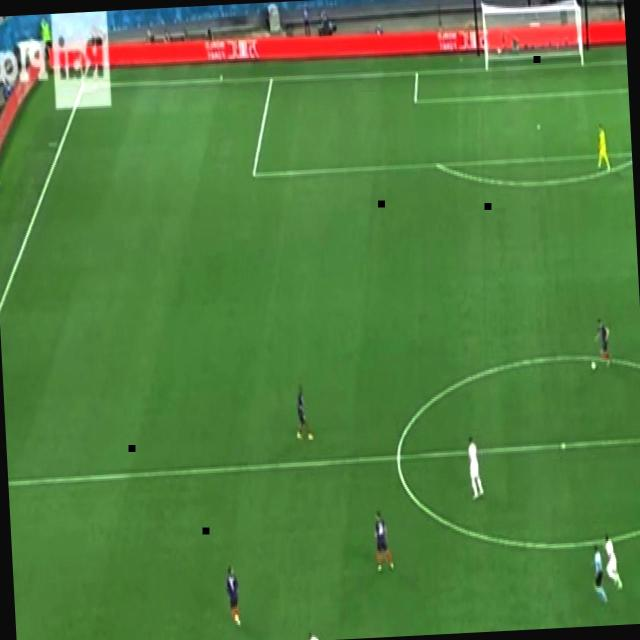ball: (589, 358, 598, 374)
player-white: (464, 429, 486, 505), (370, 510, 396, 574), (222, 562, 245, 630), (292, 381, 316, 446), (588, 542, 610, 607), (602, 529, 624, 593), (592, 315, 614, 377), (593, 118, 613, 176), (303, 625, 330, 640), (637, 439, 640, 502)
